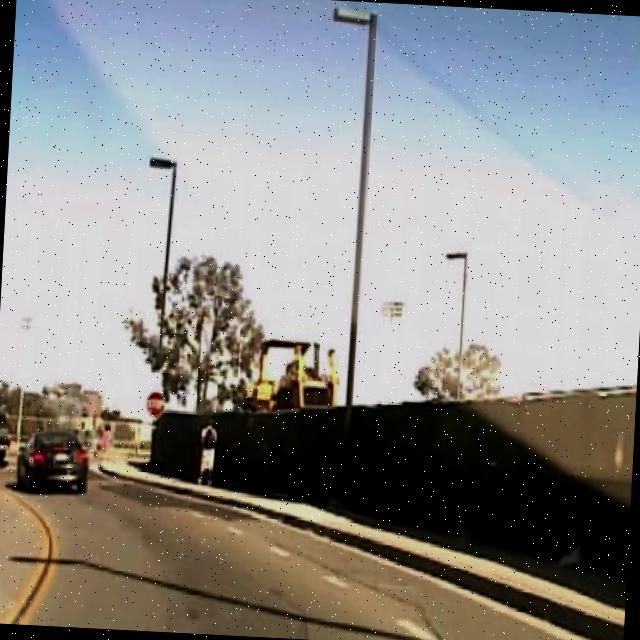Stop: (145, 391, 168, 417)
